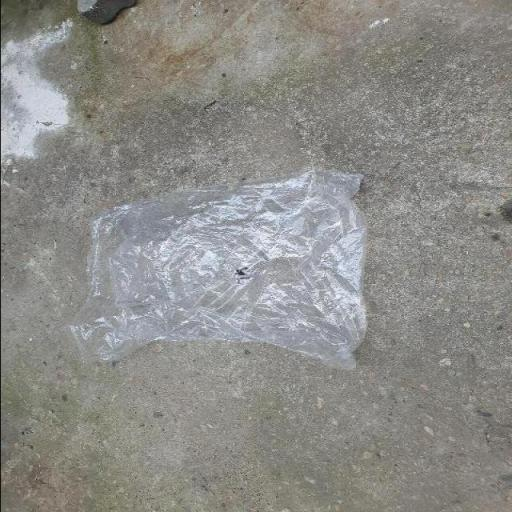plastic-bag: (68, 168, 374, 370)
